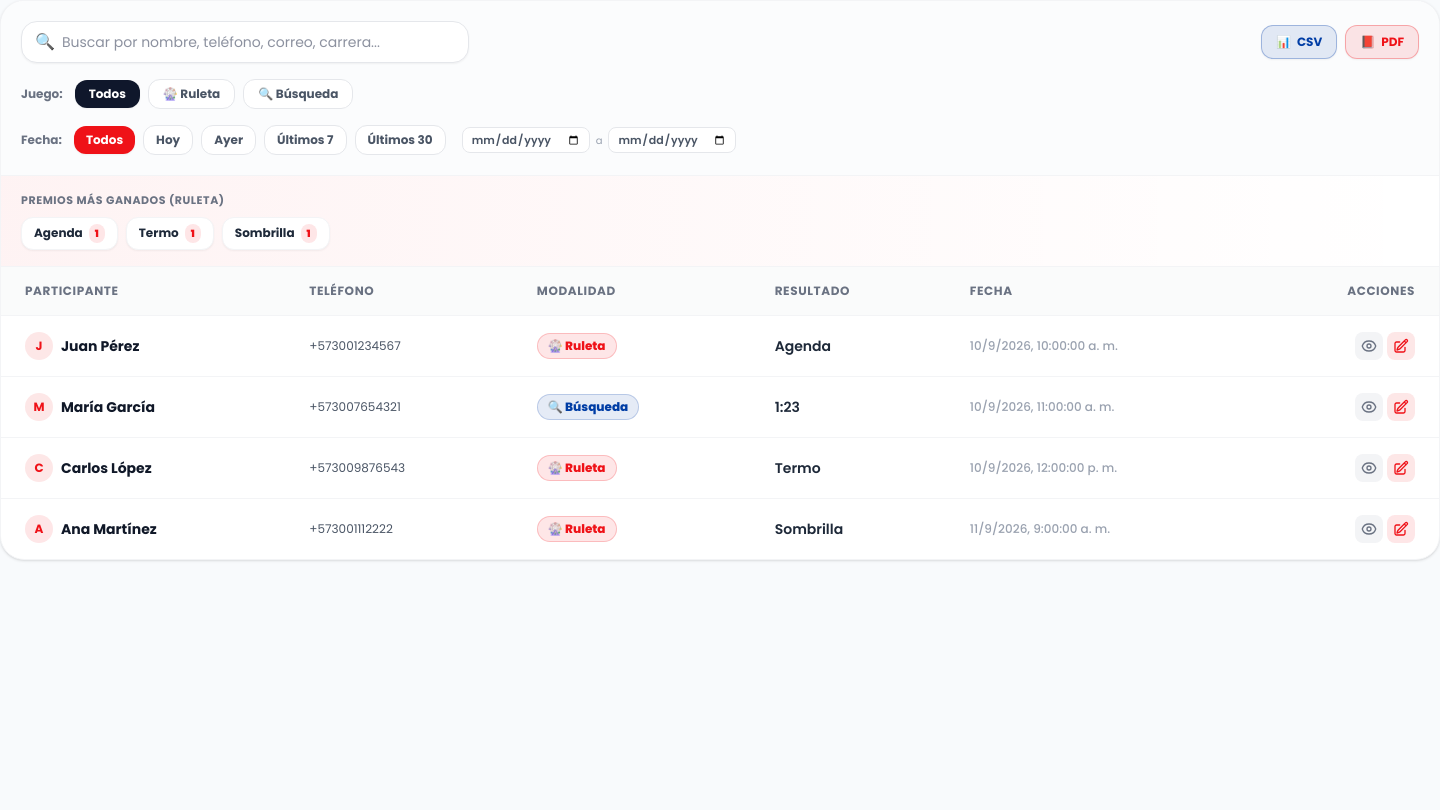
Test: RecordsTable › should filter records by search
The image size is (1440, 810).
In the field with placeholder "Buscar por nombre, teléfono, correo, carrera...": [245, 42] box [21,21,469,63], type "Juan"
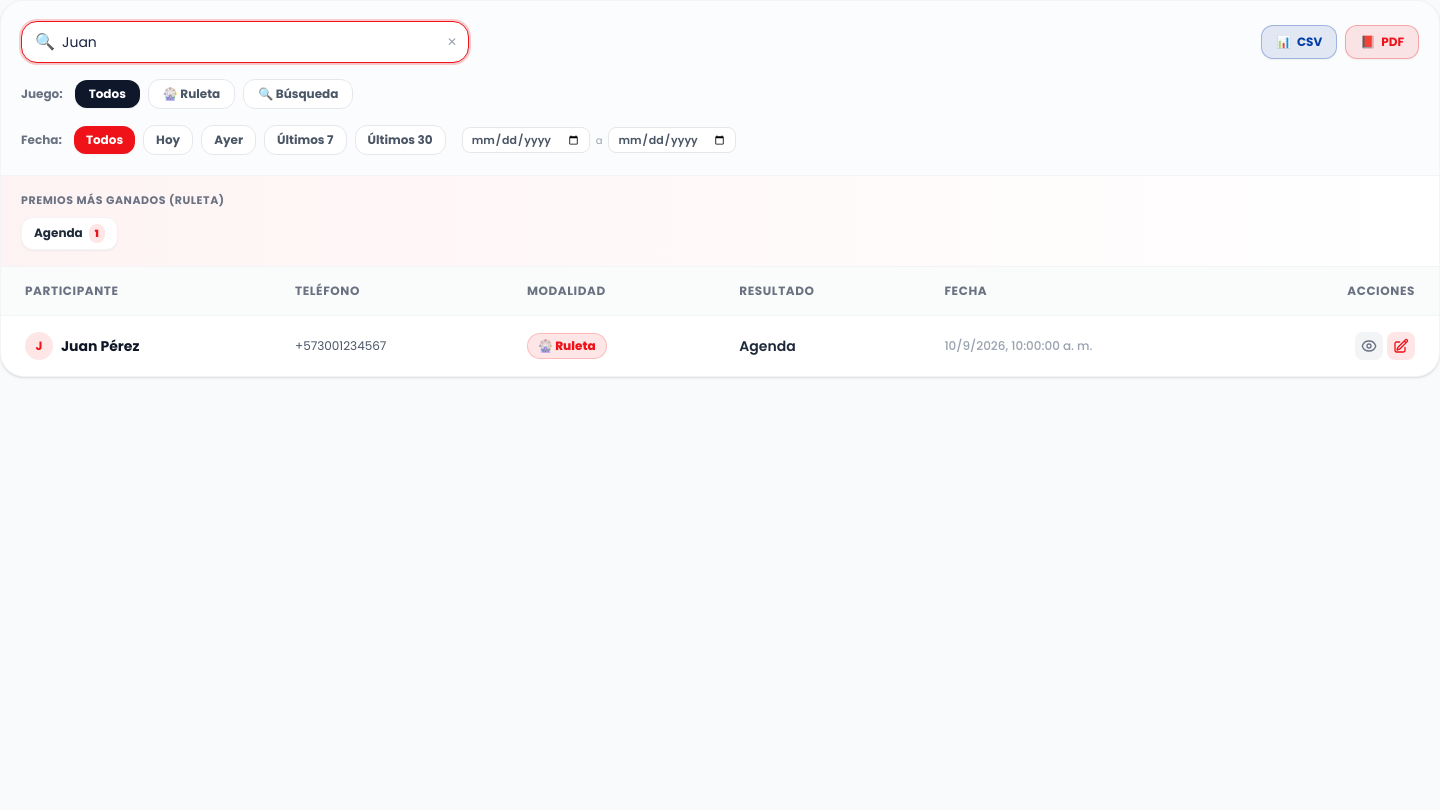
Now the text "María García" is gone
